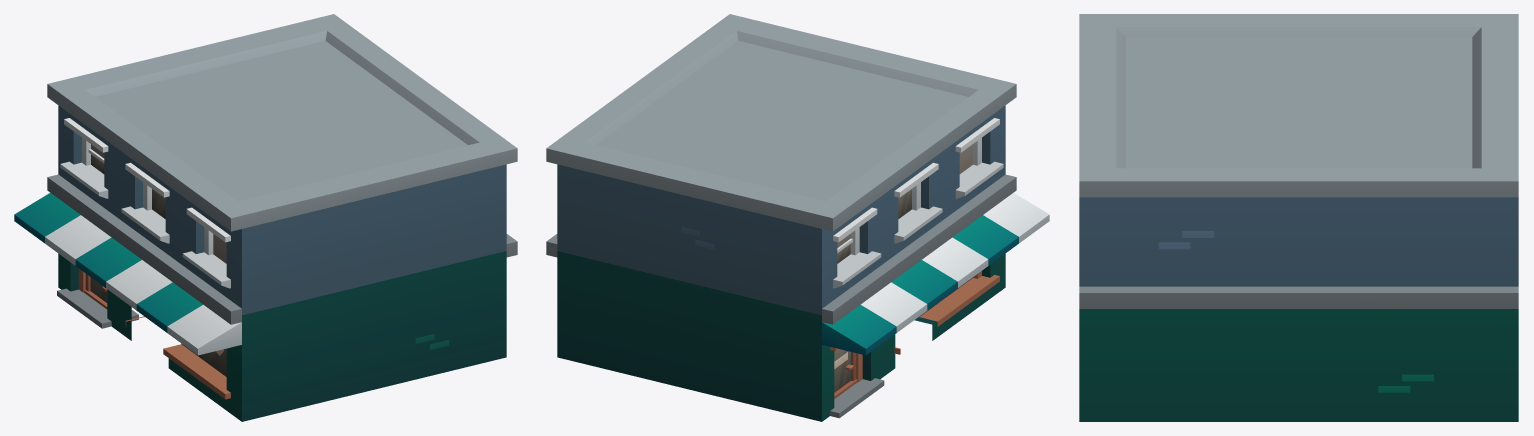
Rendered from office_facade.glb.
3 renders of one model, left to right at view 1: azimuth 30°, elevation 25°; view 2: azimuth 150°, elevation 25°; view 3: azimuth 270°, elevation 25°, orthographic. The views are drawn at different scales.
Parts seen in each view (by area): view 1: OfficeFacade; view 2: OfficeFacade; view 3: OfficeFacade.
Part boxes in pixels (box(x1,y1,x2,y2)): OfficeFacade: box(14, 14, 517, 421); OfficeFacade: box(546, 14, 1049, 421); OfficeFacade: box(1079, 14, 1518, 421).
Bounding box in the file's own units: 12 × 7.4 × 12.
1 material, 1 textured.
